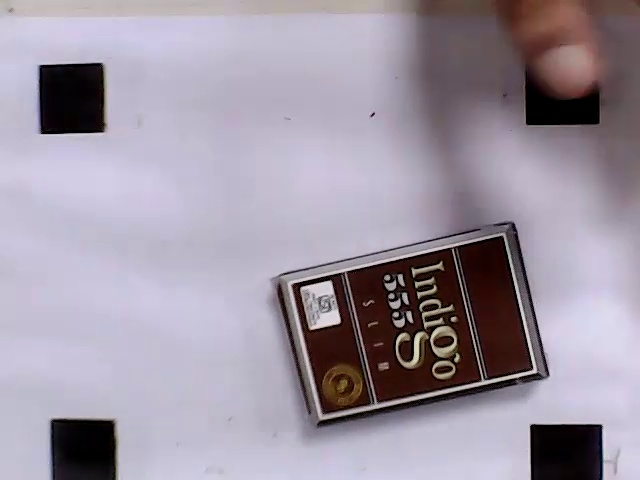BEX: (290, 234, 535, 416)
